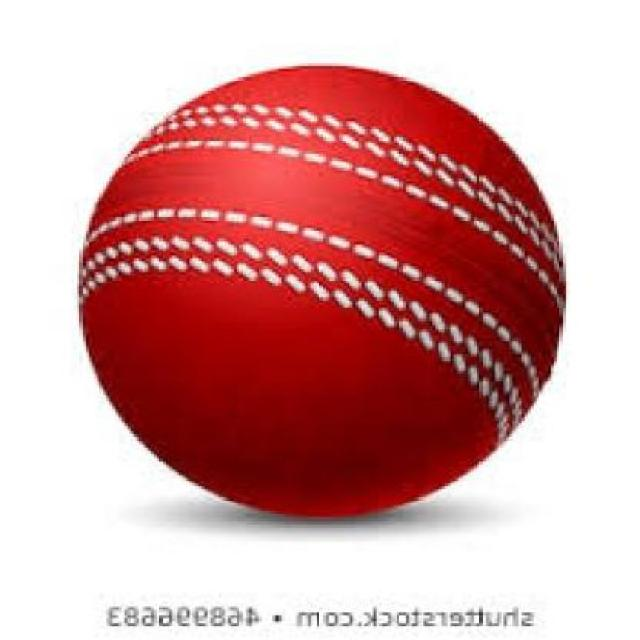ball: (0, 50, 593, 587)
